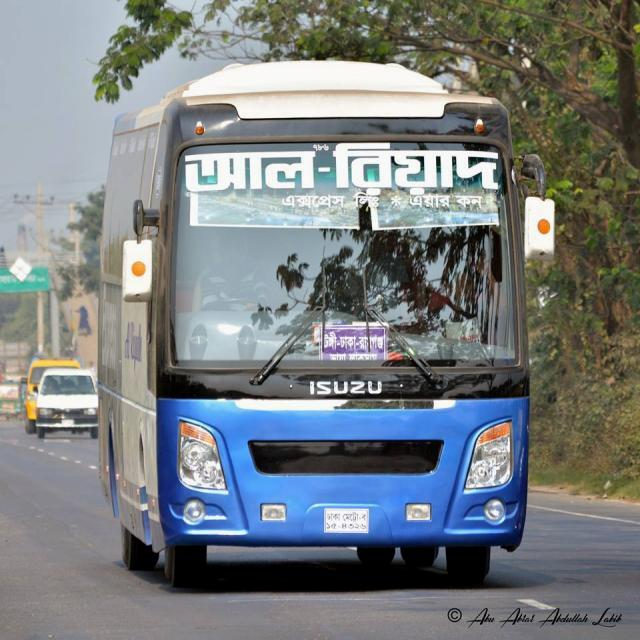bus: (98, 59, 560, 587)
